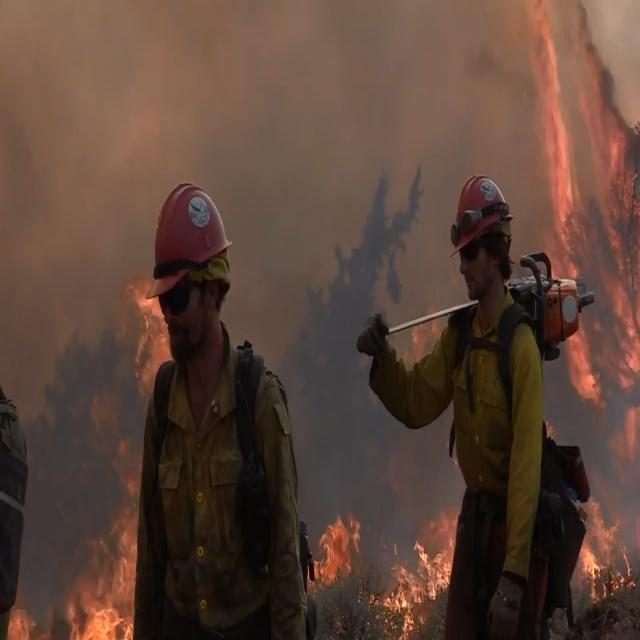Fire: (5, 265, 450, 640), (519, 0, 640, 599)
